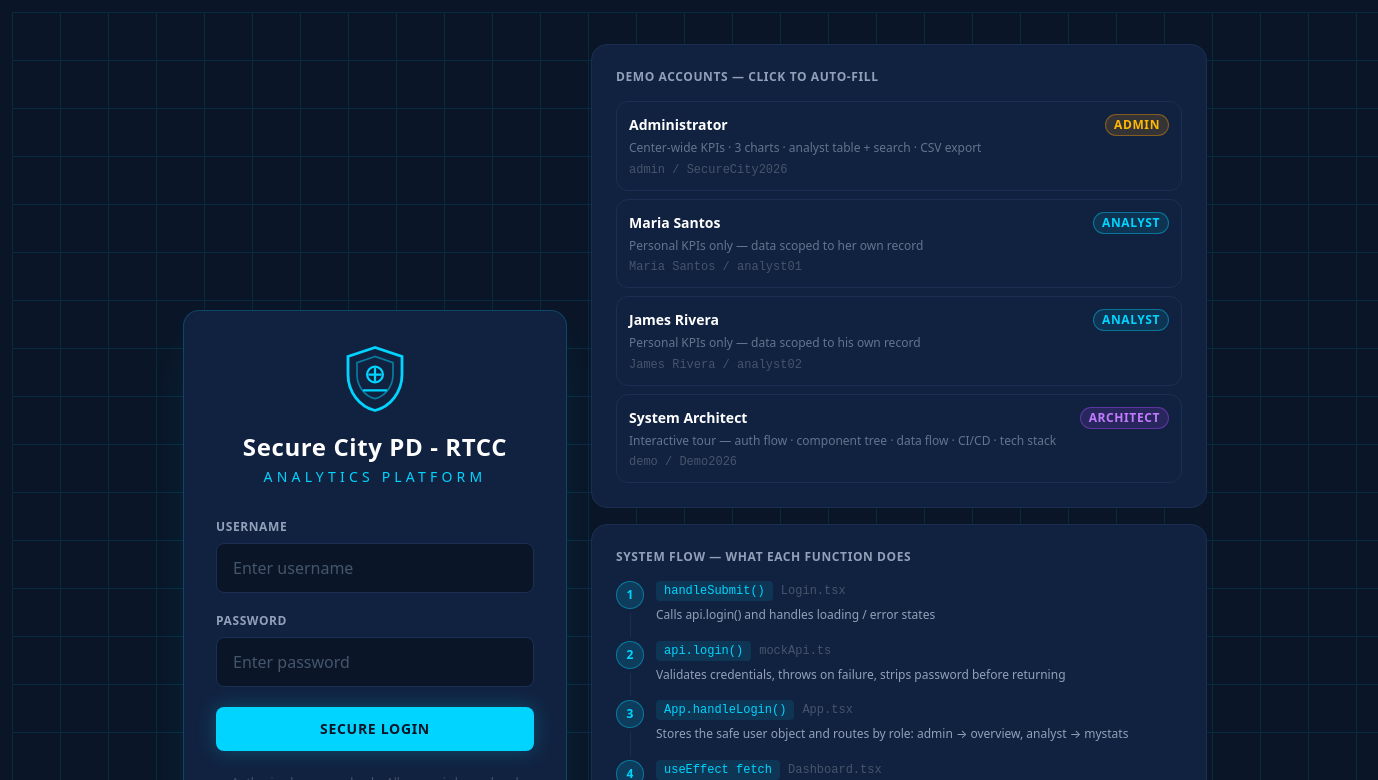
Test: App role-based routing › routes an analyst to My Performance with only their own stats
The image size is (1378, 780).
Type "Maria Santos" into the field labelled "Username" at (375,568), box [216, 542, 534, 592]
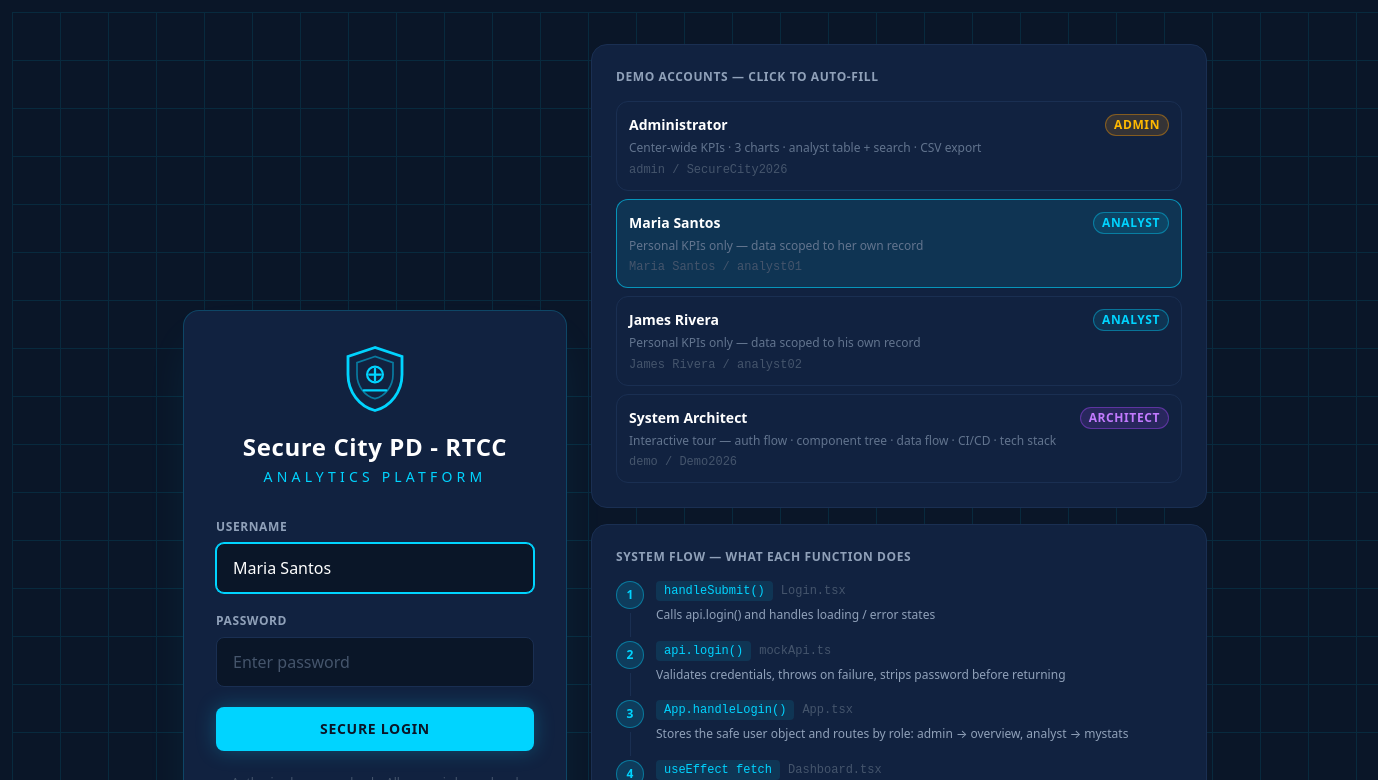
Type "analyst01" into the password field labelled "Password" at (375,662), box [216, 636, 534, 686]
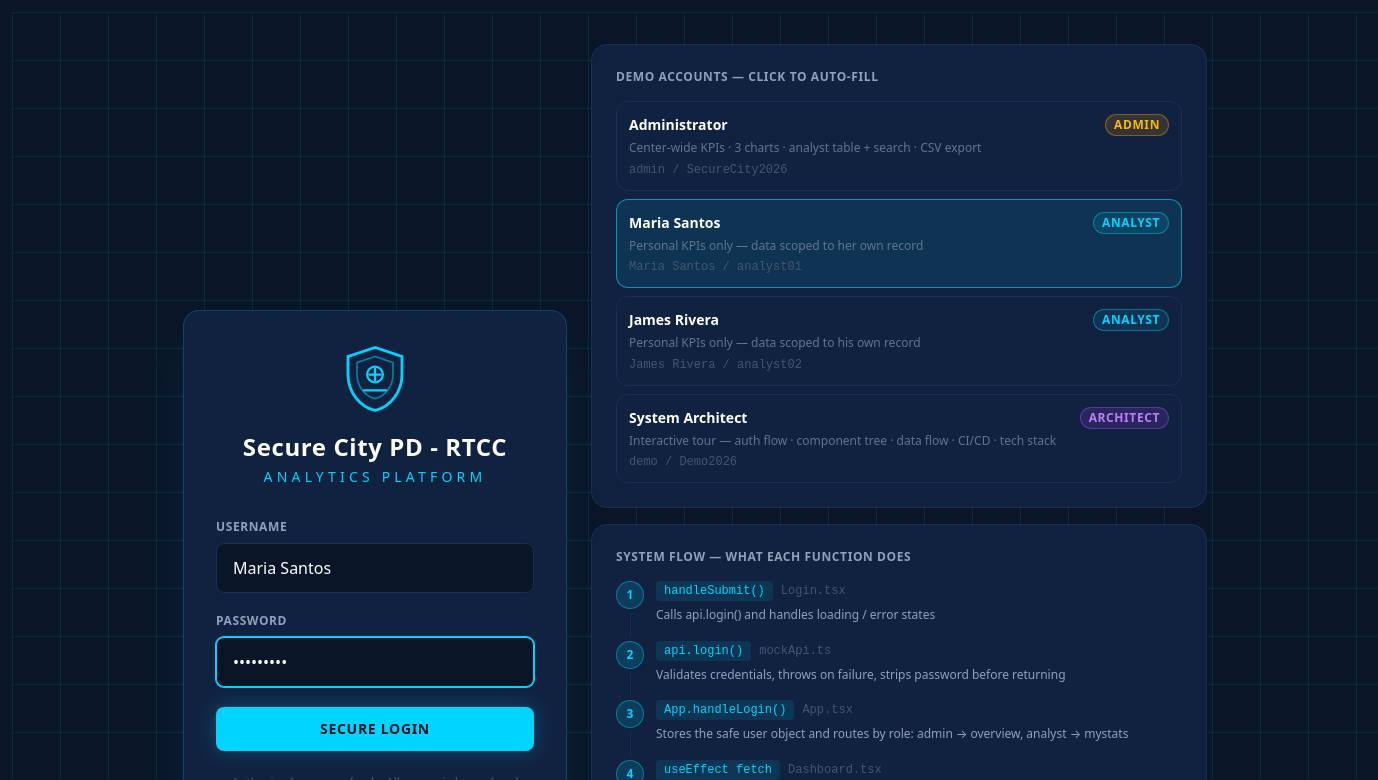
Click the button "Secure Login" at (375,728), box [216, 706, 534, 750]
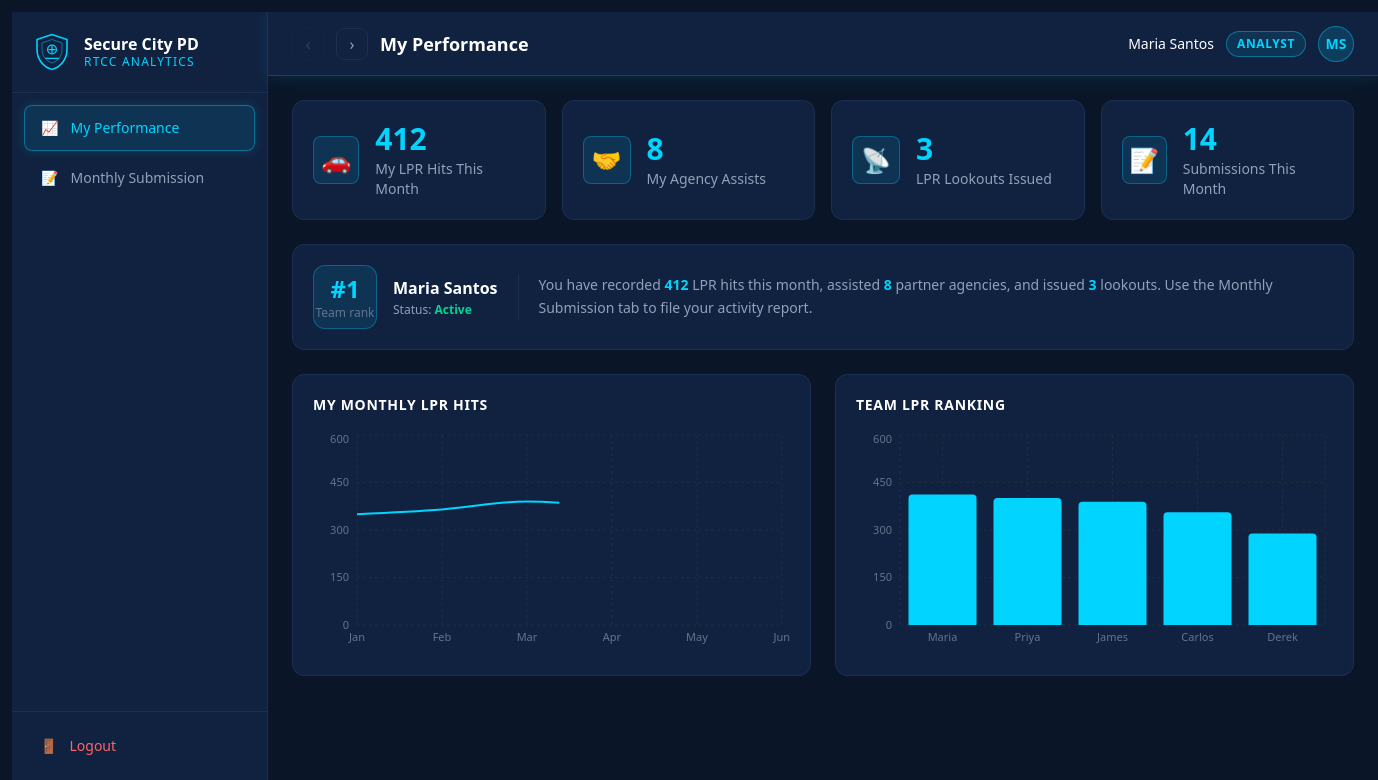
Result: the heading "My Performance" is shown at [380, 30, 529, 58]
